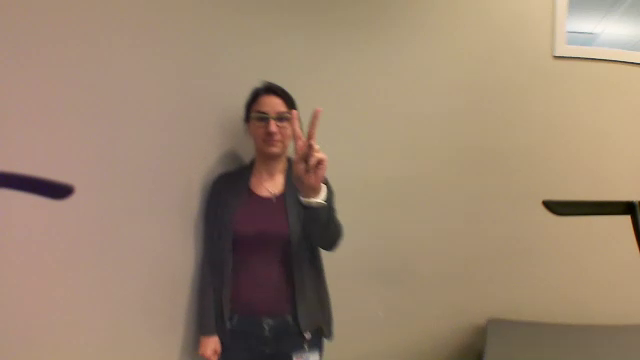peace: (284, 105, 334, 190)
